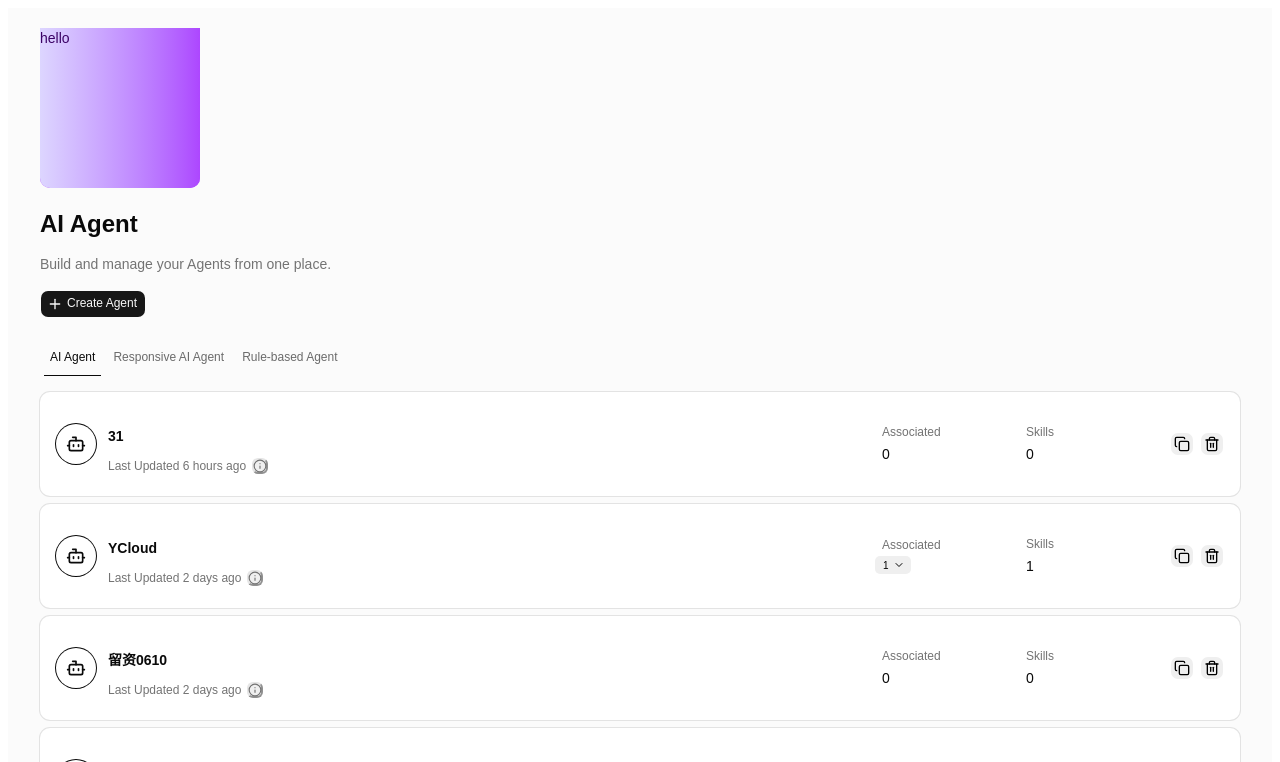
Test: App › shows a success toast after copying an agent
Click the button named "Duplicate YCloud": (1182,556) [1170,544,1194,568]
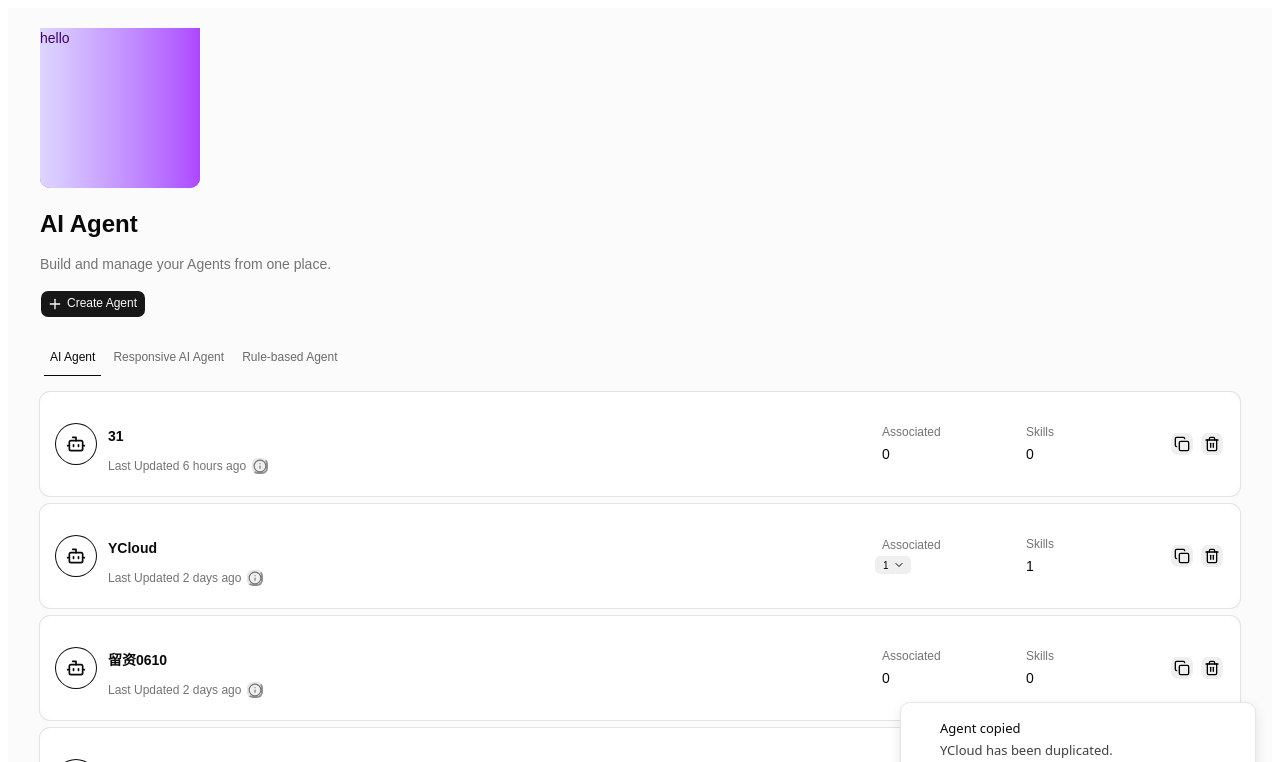
Result: the text "Agent copied" is shown at [940,719,1020,737]
Result: the text "YCloud has been duplicated." is shown at [940,741,1113,759]
